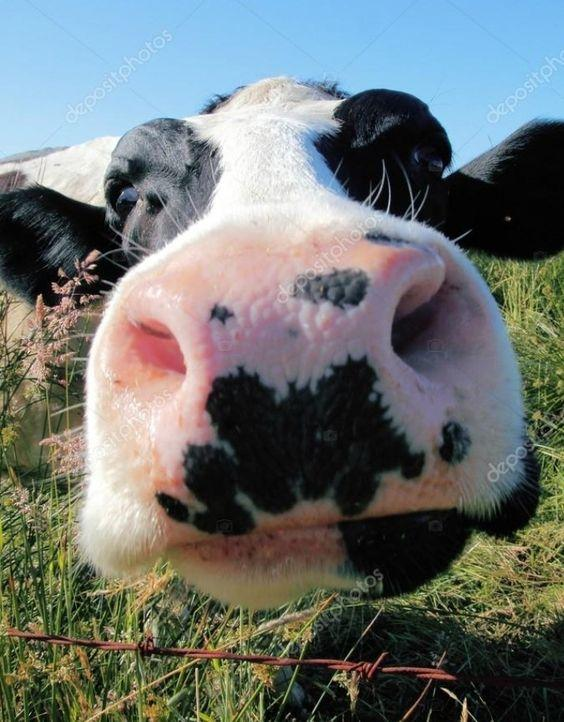cow: (20, 40, 564, 630)
